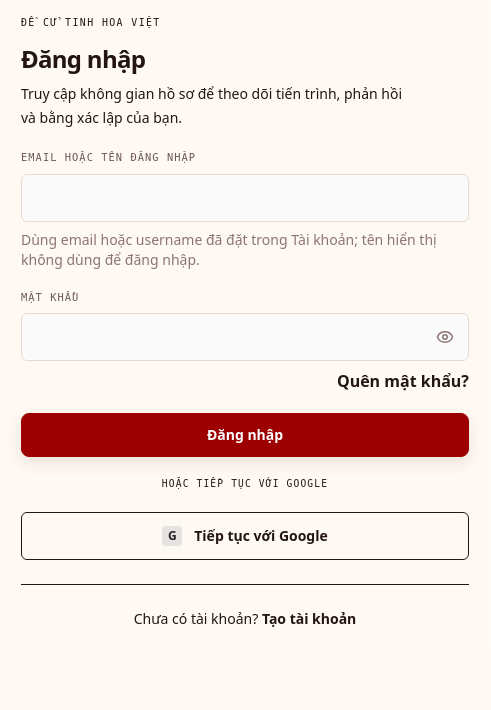
Test case: LoginForm › turns backend credential details into an actionable user message
In the field labelled "Email hoặc tên đăng nhập": (245, 198) top-left (21, 174), bottom-right (469, 222), type "owner@cnsgroup.vn"
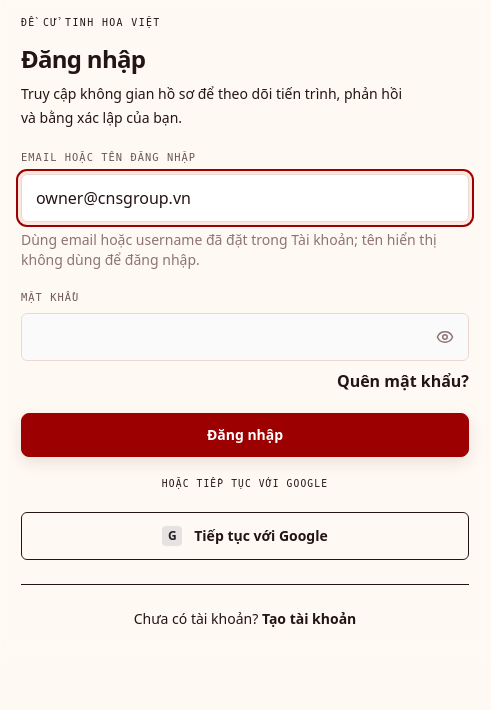
In the password field labelled "Mật khẩu": (245, 337) top-left (21, 313), bottom-right (469, 361), type "wrong password"
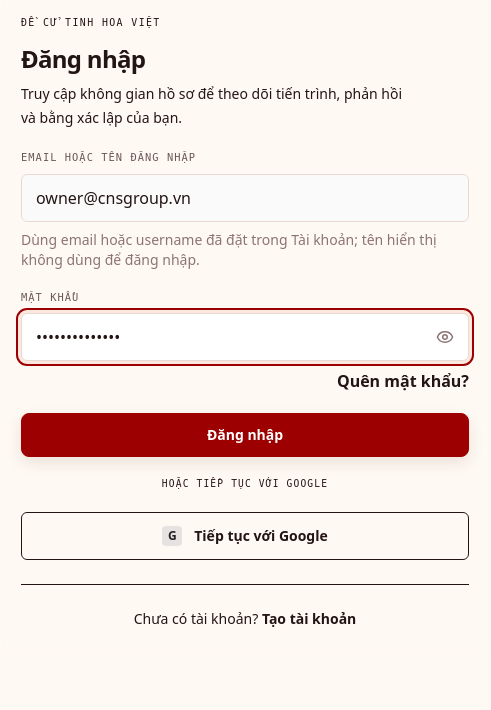
Click the button "Đăng nhập": (245, 435) top-left (21, 413), bottom-right (469, 457)
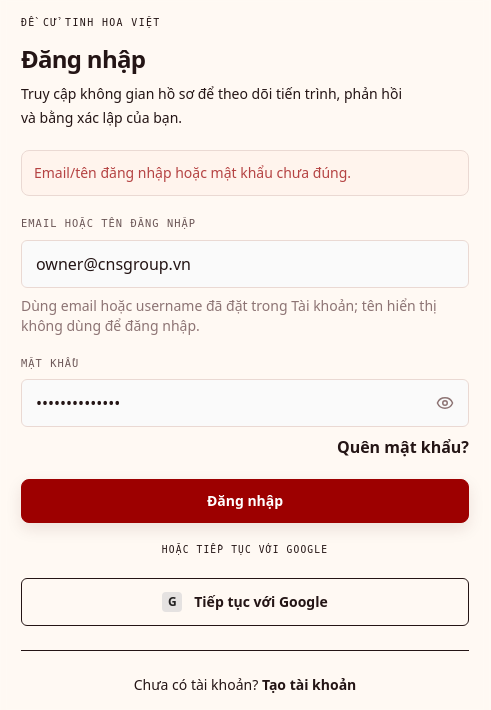
Now the text "Email/tên đăng nhập hoặc mật khẩu chưa đúng." is shown, box top-left (21, 150), bottom-right (469, 196)
